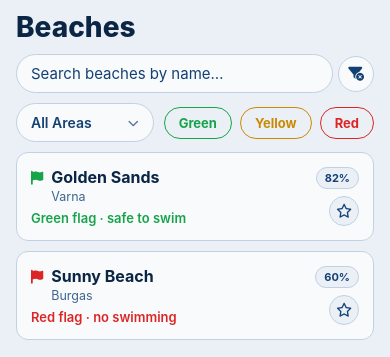
it: BeachList › shows a friendly empty state when the search matches nothing
Type "Nowhere" into the field labelled "Search beaches by name" at (174, 74), box [16,54,333,93]
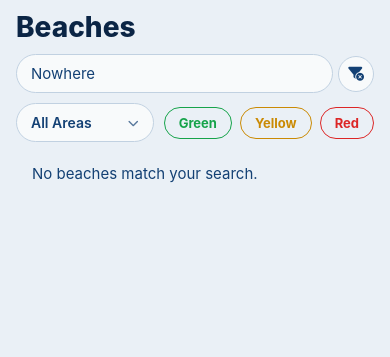
Result: the text "No beaches match your search." is shown at [32,164,258,183]
